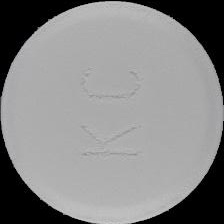66869-204: (0, 0, 224, 224)
